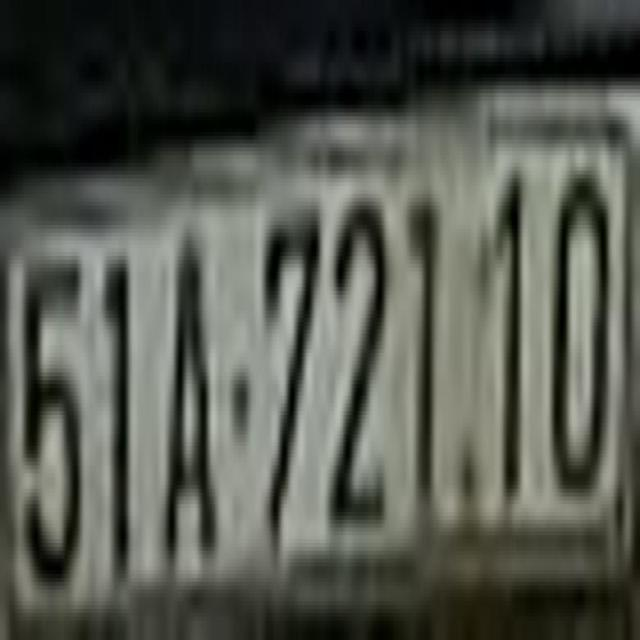0: (554, 167, 609, 469)
1: (404, 163, 439, 500), (490, 163, 522, 496), (107, 225, 131, 566)
2: (329, 178, 386, 524)
5: (22, 237, 81, 578)
7: (258, 198, 322, 527)
A: (168, 213, 215, 539)
